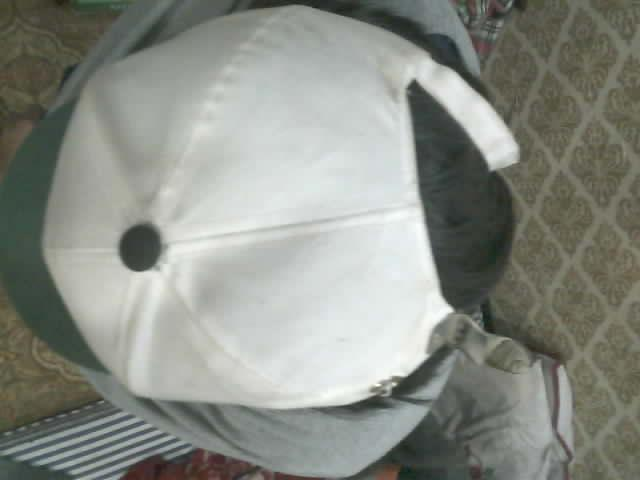cap: (0, 4, 520, 412)
